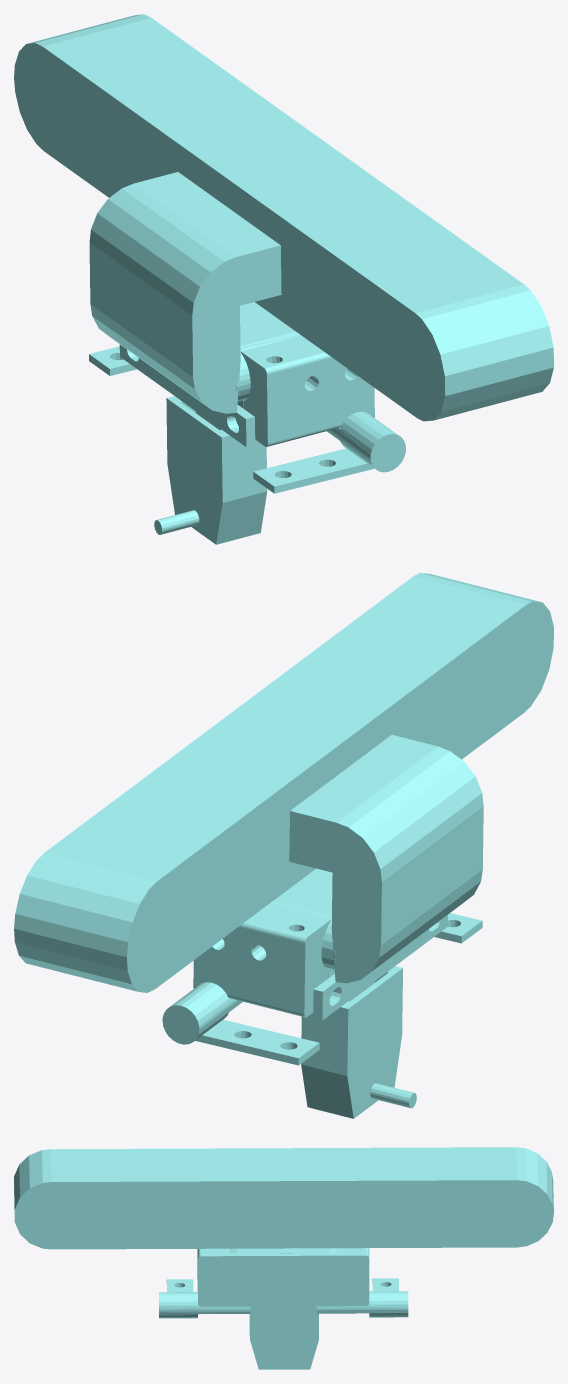
File: camera_link.DAE
The picture shows the model from 3 angles, top to bottom: view 1: azimuth 30°, elevation 25°; view 2: azimuth 150°, elevation 25°; view 3: azimuth 270°, elevation 25°; orthographic projection. The views are drawn at different scales.
Visible parts, largest first — view 1: node0; view 2: node0; view 3: node0.
Boxes of the visible parts, bbox=[...] form: node0: bbox=[14, 14, 553, 544]; node0: bbox=[14, 573, 553, 1118]; node0: bbox=[14, 1147, 553, 1369].
Size of the model in its own units: 0.0454 by 0.1638 by 0.0734.
